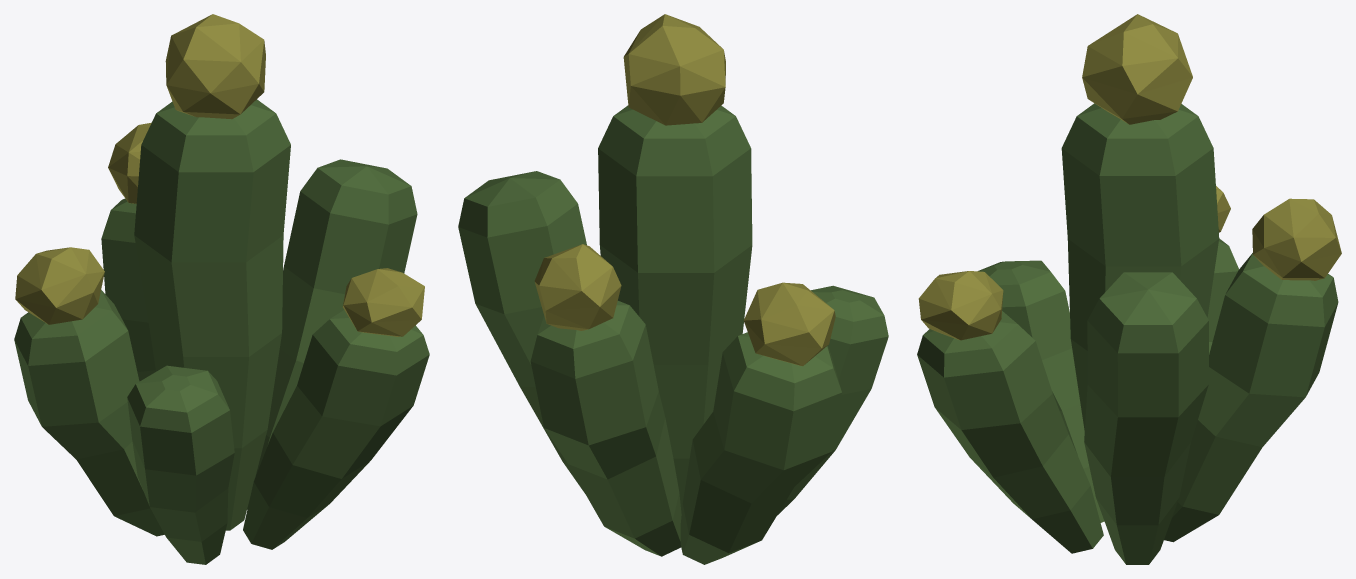
The model's file is SM_Envr_Nature_Plant_Desert_08.fbx.
3 views of the same model, side by side, from view 1: azimuth 30°, elevation 25°; view 2: azimuth 150°, elevation 25°; view 3: azimuth 270°, elevation 25° (orthographic). The views are drawn at different scales.
Parts seen in each view (by area): view 1: SM_Envr_Nature_Plant_Desert_08; view 2: SM_Envr_Nature_Plant_Desert_08; view 3: SM_Envr_Nature_Plant_Desert_08.
Boxes of the visible parts, <box> form: SM_Envr_Nature_Plant_Desert_08: <box>14,14,429,564</box>; SM_Envr_Nature_Plant_Desert_08: <box>458,14,888,564</box>; SM_Envr_Nature_Plant_Desert_08: <box>917,14,1341,564</box>.
Bounding box in the file's own units: 136 × 182 × 135.
